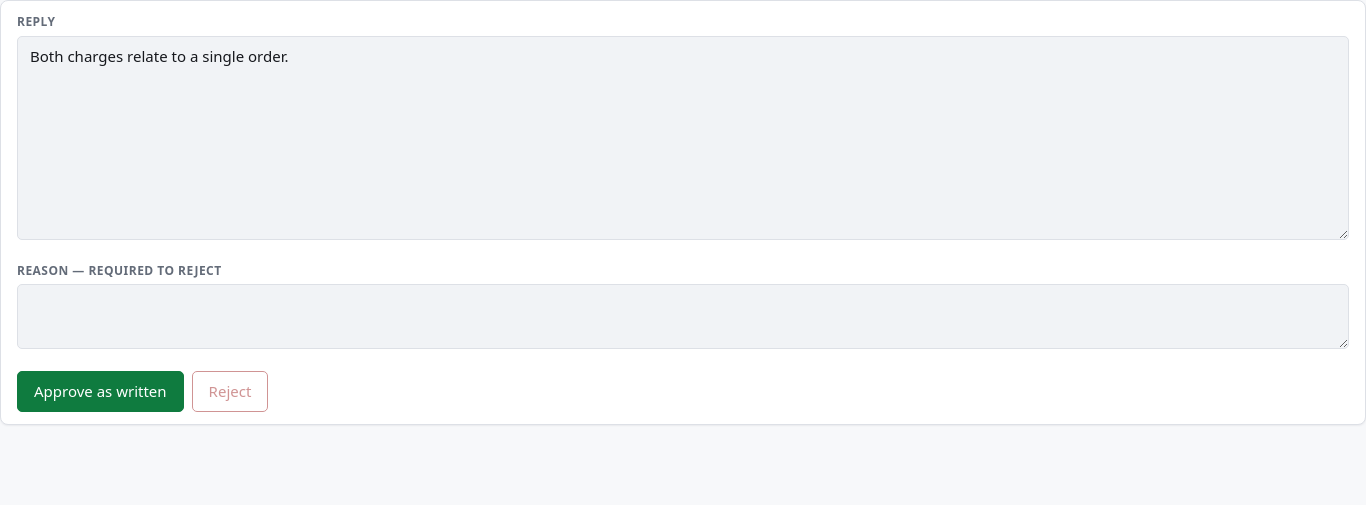
it: ReviewActions › surfaces a refusal from the server
The image size is (1366, 505).
Click the button "Approve as written".
click(100, 392)  # box [17, 371, 184, 412]
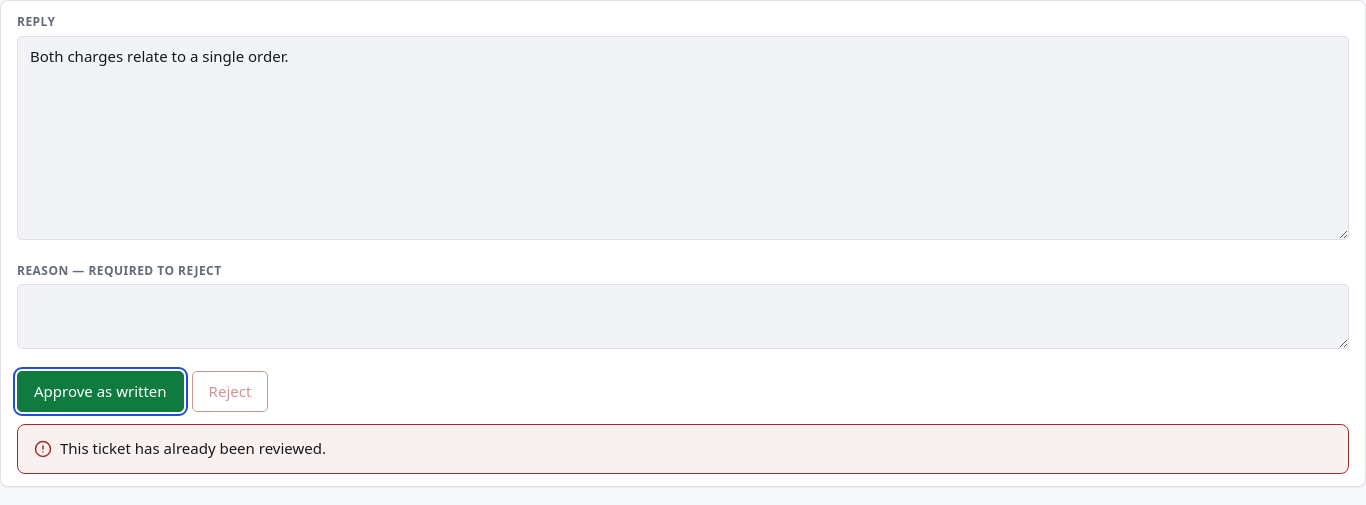
Result: the message reads "This ticket has already been reviewed." at [60, 438, 326, 458]
